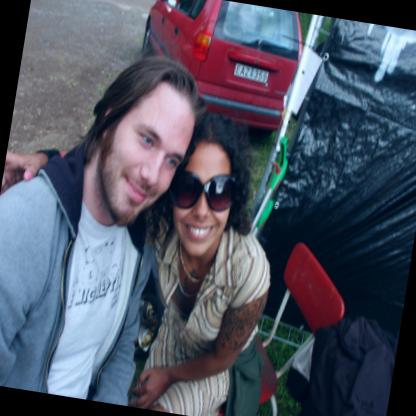Car: (130, 0, 308, 130)
